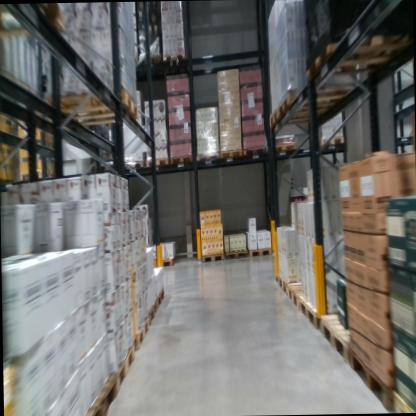pallet: (301, 29, 413, 82), (37, 84, 138, 133), (278, 82, 371, 118), (344, 349, 395, 411), (0, 4, 65, 42), (317, 305, 352, 372), (264, 102, 327, 133), (77, 369, 117, 416), (298, 295, 333, 338), (111, 339, 136, 396), (131, 314, 150, 353), (159, 53, 191, 76), (275, 272, 300, 301), (266, 137, 297, 157), (314, 135, 347, 153), (287, 281, 306, 312), (112, 156, 143, 174), (391, 389, 415, 412), (242, 139, 268, 160), (195, 148, 222, 168), (142, 300, 158, 333), (169, 151, 194, 170), (247, 242, 276, 257), (143, 154, 170, 170), (151, 253, 177, 269), (223, 245, 250, 258), (221, 147, 244, 161), (199, 252, 225, 264), (156, 287, 164, 309)
